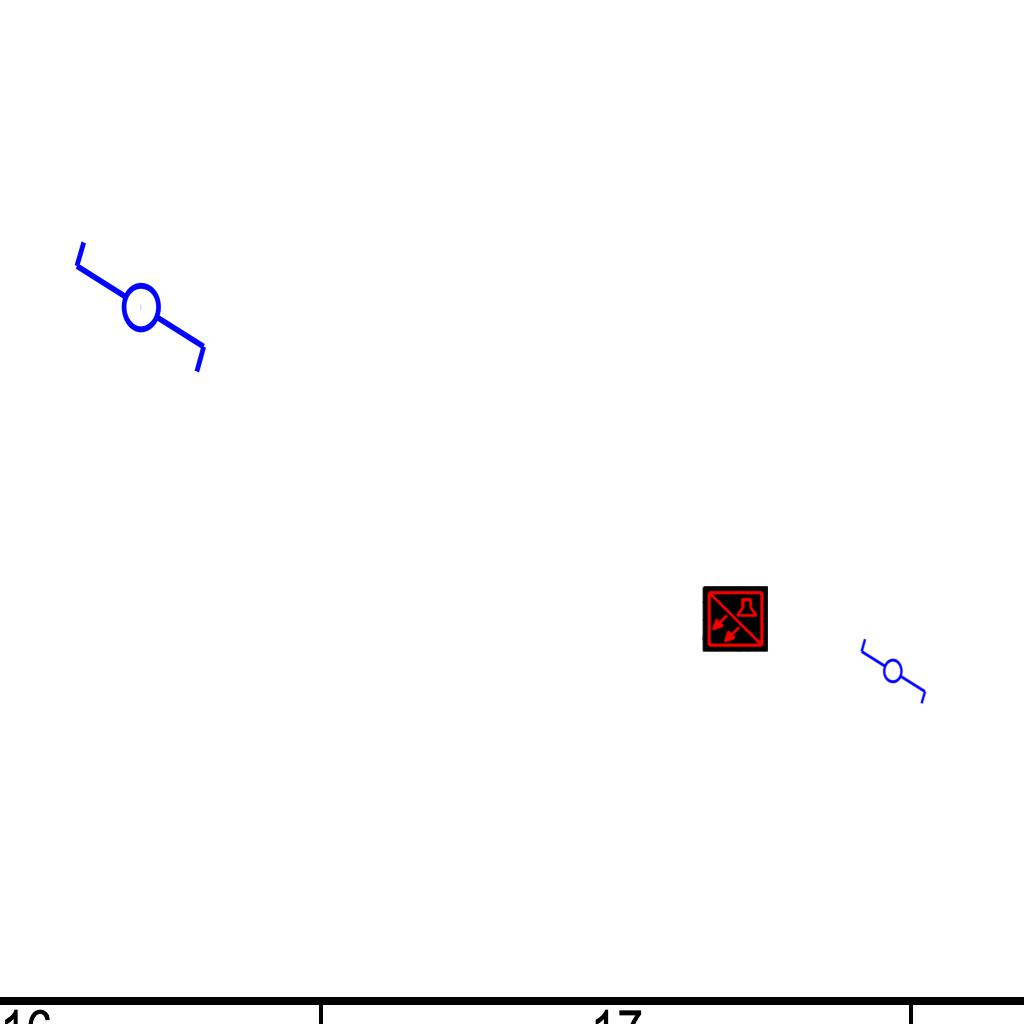OKW_Multisensormelder_(Kombination_optischer_Rauch-Kahlenmonoxid_Waerme-Melder): (702, 586, 768, 652)
Wechselschalter: (67, 237, 211, 394), (858, 628, 930, 706)
